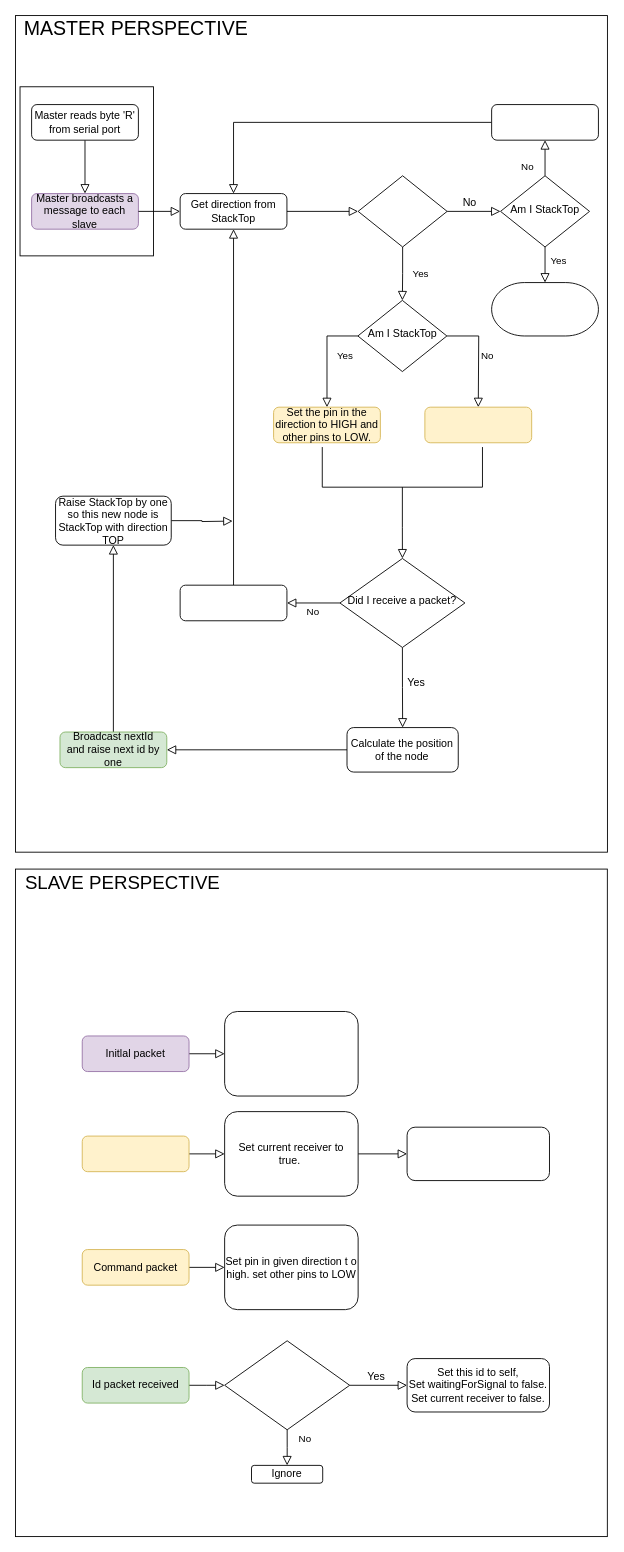
Some shapes in this 624 by 1552 pixel diagram are drawn without their labels. Here are the shapes that lost their labels. From the top down, the centre of each, then its label:
point (544, 122): Remove StackTop (StackTop --)
point (402, 211): is direction valid?
point (544, 309): CONFIGURATION DONE
point (478, 424): Command StackTop to set the pin in the direction to HIGH
point (233, 602): Move to next direction (dir++)
point (291, 1053): Set all direction pins to input and waitingForSignal to true.
point (135, 1153): A PIN IS HIGH
point (477, 1153): Send a packet to the master
point (287, 1385): Am I the current receiver?
